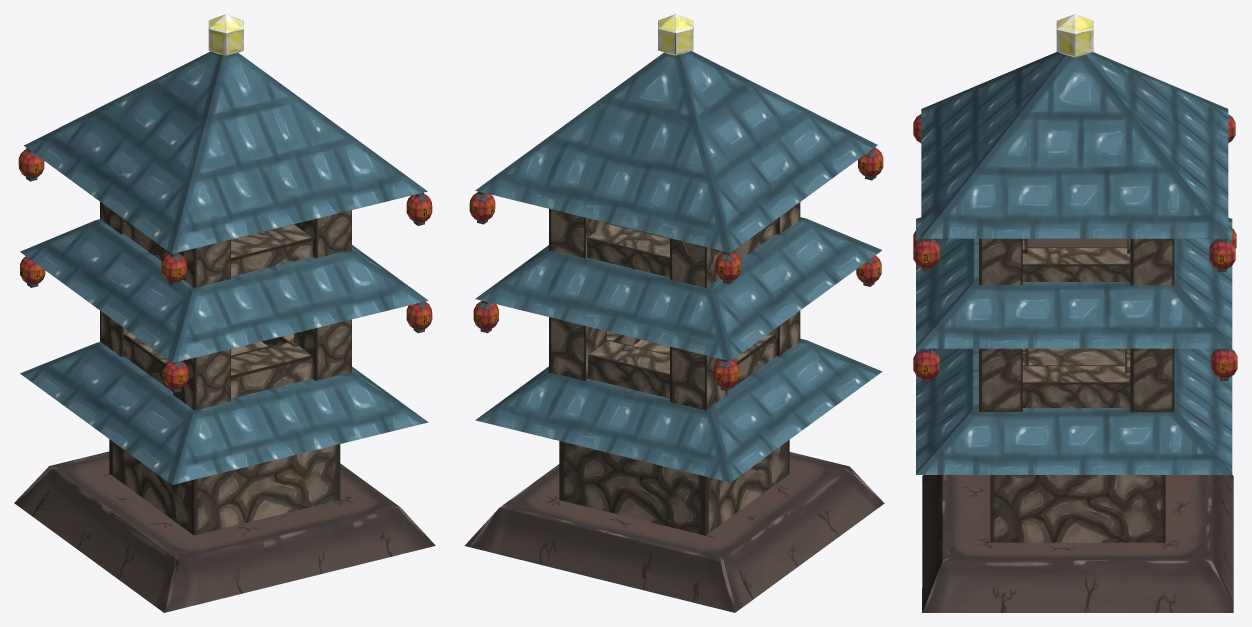
The model's file is sniper tower upgrade 1 .fbx.
3 renders of one model, left to right at view 1: azimuth 30°, elevation 25°; view 2: azimuth 150°, elevation 25°; view 3: azimuth 270°, elevation 25°, orthographic. The views are drawn at different scales.
Visible parts, largest first — view 1: boven dak, base, dak 1, dak 2, eerste verdieping, Cube.11, Cube.12, Cube.3, Cube.4, Cube.6, Cube.5, Sphere (+8 smaller); view 2: boven dak, base, dak 1, dak 2, eerste verdieping, Cube.14, Cube.15, Cube.2, Cube.1, Cube.7, Cube.8, Sphere (+8 smaller); view 3: boven dak, base, dak 1, dak 2, eerste verdieping, Cube.9, Cube.13, Cube.1, Cube.4, Cube.8, Cube.5, Sphere (+5 smaller).
Boxes of the visible parts, box(x1,y1,x2,y2) form: boven dak: box(24, 51, 427, 253); base: box(14, 451, 435, 612); dak 1: box(20, 342, 428, 484); dak 2: box(20, 219, 428, 363); eerste verdieping: box(109, 341, 340, 535); Cube.11: box(231, 341, 312, 398); Cube.12: box(231, 224, 312, 276); Cube.3: box(173, 349, 230, 410); Cube.4: box(294, 319, 351, 380); Cube.6: box(178, 239, 230, 287); Cube.5: box(294, 210, 351, 258); Sphere: box(208, 14, 243, 55); boven dak: box(475, 51, 877, 252); base: box(464, 452, 884, 612); dak 1: box(475, 338, 882, 482); dak 2: box(475, 217, 882, 361); eerste verdieping: box(559, 340, 789, 535); Cube.14: box(588, 339, 669, 398); Cube.15: box(587, 223, 669, 277); Cube.2: box(670, 346, 727, 410); Cube.1: box(549, 317, 606, 380); Cube.7: box(670, 238, 723, 287); Cube.8: box(549, 209, 606, 258); Sphere: box(658, 14, 693, 55); boven dak: box(921, 52, 1228, 238); base: box(922, 475, 1233, 612); dak 1: box(916, 348, 1232, 474); dak 2: box(916, 217, 1232, 348); eerste verdieping: box(990, 348, 1165, 542); Cube.9: box(1022, 365, 1130, 407); Cube.13: box(1022, 247, 1130, 281); Cube.1: box(1130, 348, 1174, 412); Cube.4: box(979, 348, 1022, 411); Cube.8: box(1130, 239, 1174, 285); Cube.5: box(979, 239, 1022, 284); Sphere: box(1056, 14, 1093, 57).
Bounding box in the file's own units: 371 × 668 × 369.
31 materials, 31 textured.
